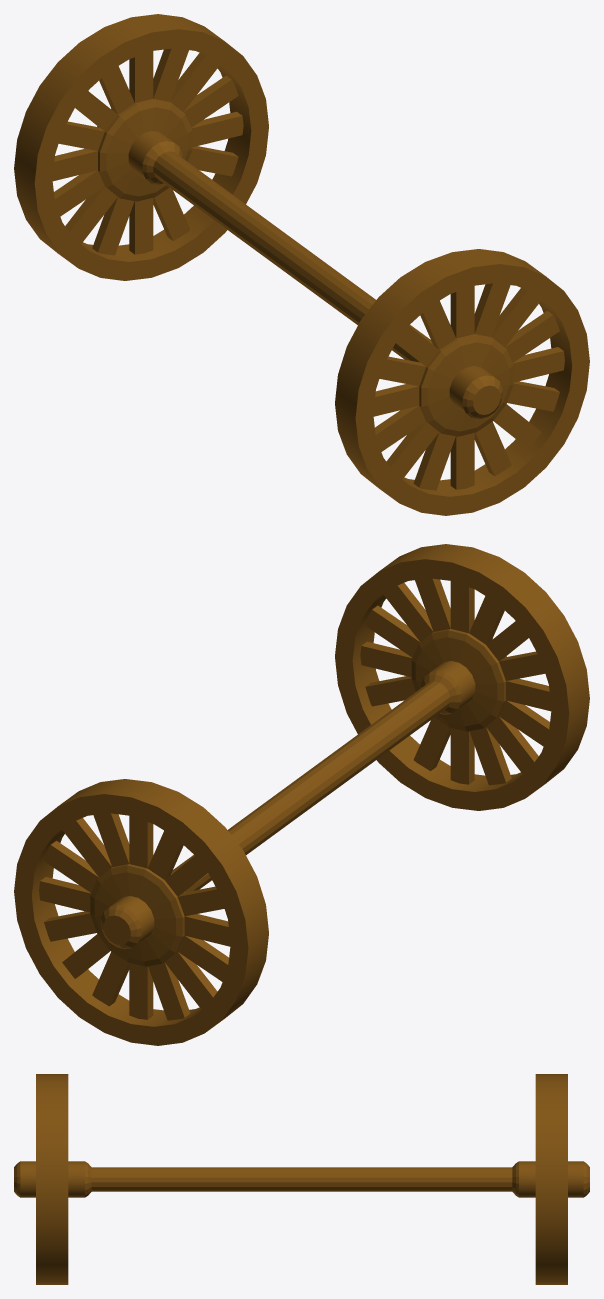
The model's file is mulun.FBX.
3 renders of one model, top to bottom at view 1: azimuth 30°, elevation 25°; view 2: azimuth 150°, elevation 25°; view 3: azimuth 270°, elevation 25°, orthographic. The views are drawn at different scales.
Visible parts, largest first — view 1: c134; view 2: c134; view 3: c134.
Boxes of the visible parts, x1,y1,x2,y2 form: c134: (14,14,589,515); c134: (14,544,589,1045); c134: (14,1074,589,1284).
Size of the model in its own units: 0.6859 by 0.6859 by 1.87.
